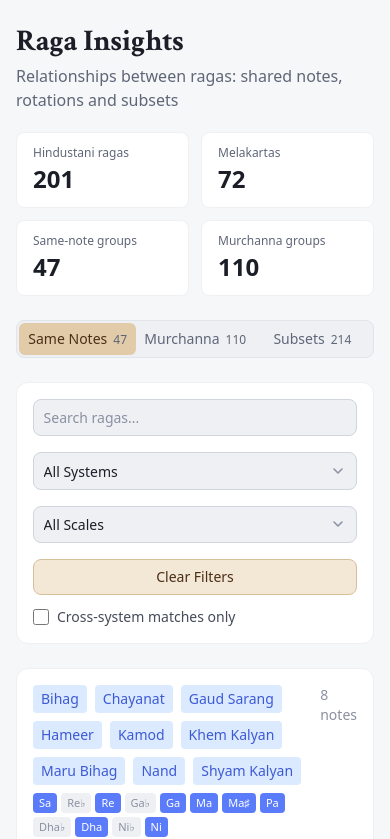
Test: RagaInsights › "Supersets of" shows the larger ragas containing the searched raga, expanded
Click the tab "Subsets214".
click(312, 339)  # box [254, 323, 371, 355]
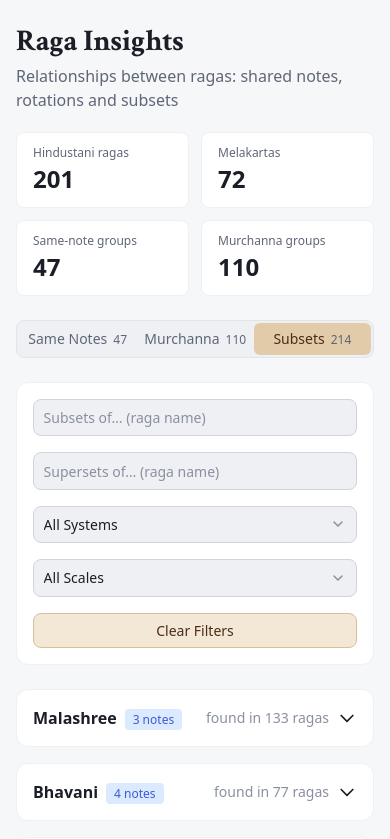
Type "durga" into the search field named "Find supersets of a raga".
click(195, 471); type("durga")  # box [33, 452, 357, 490]
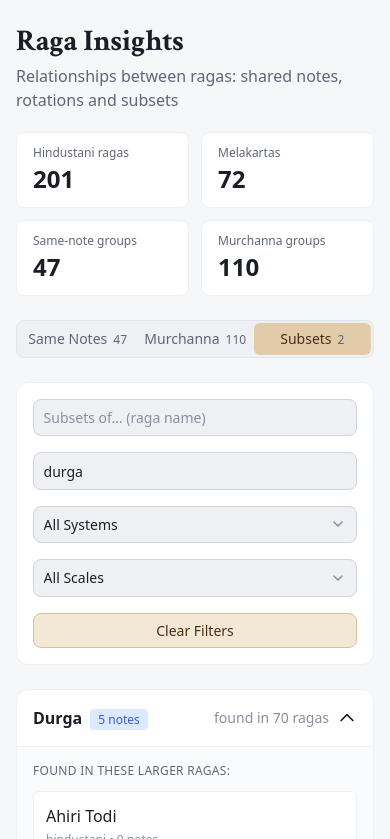
Now the number of headings "Found in these larger ragas:" is 2
